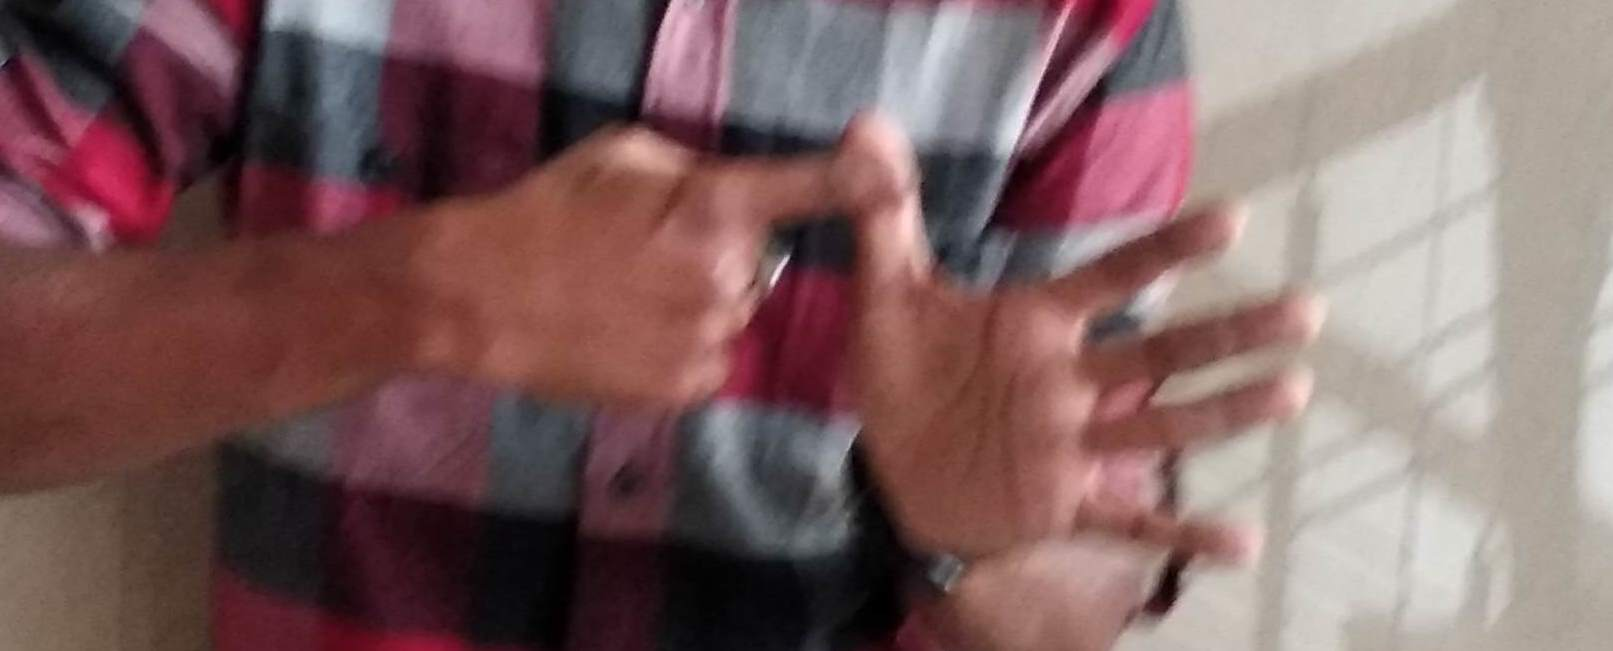a: (500, 102, 1262, 556)
